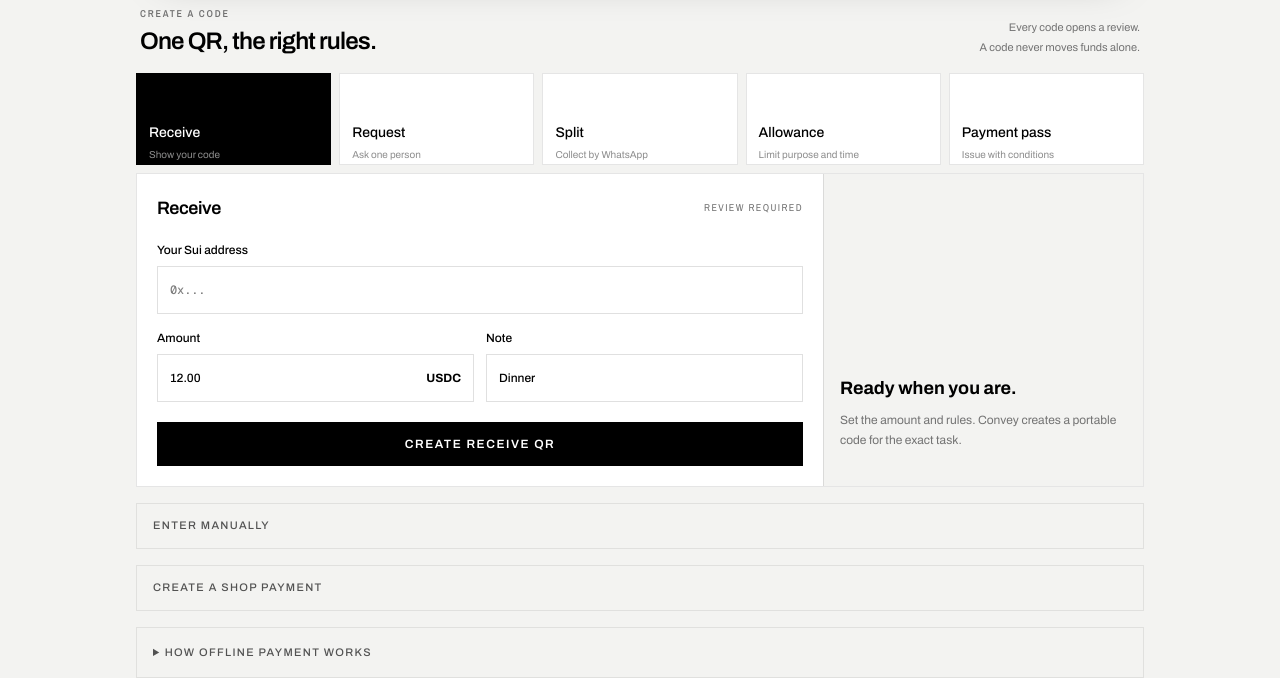
Scenario: Pay Offline — Scan QR camera entry › renders a Scan QR button as the primary import action
(page scrolled)
Expected: the field with placeholder "Paste payment code" is not shown
Expected: the field labelled "Open from file" is not shown
Opening the disclosure reveals the paste/file fallbacks.
Click the button with test id "manual-entry-disclosure" at {"x": 211, "y": 525}, box [137,504,1143,548]
(page scrolled)
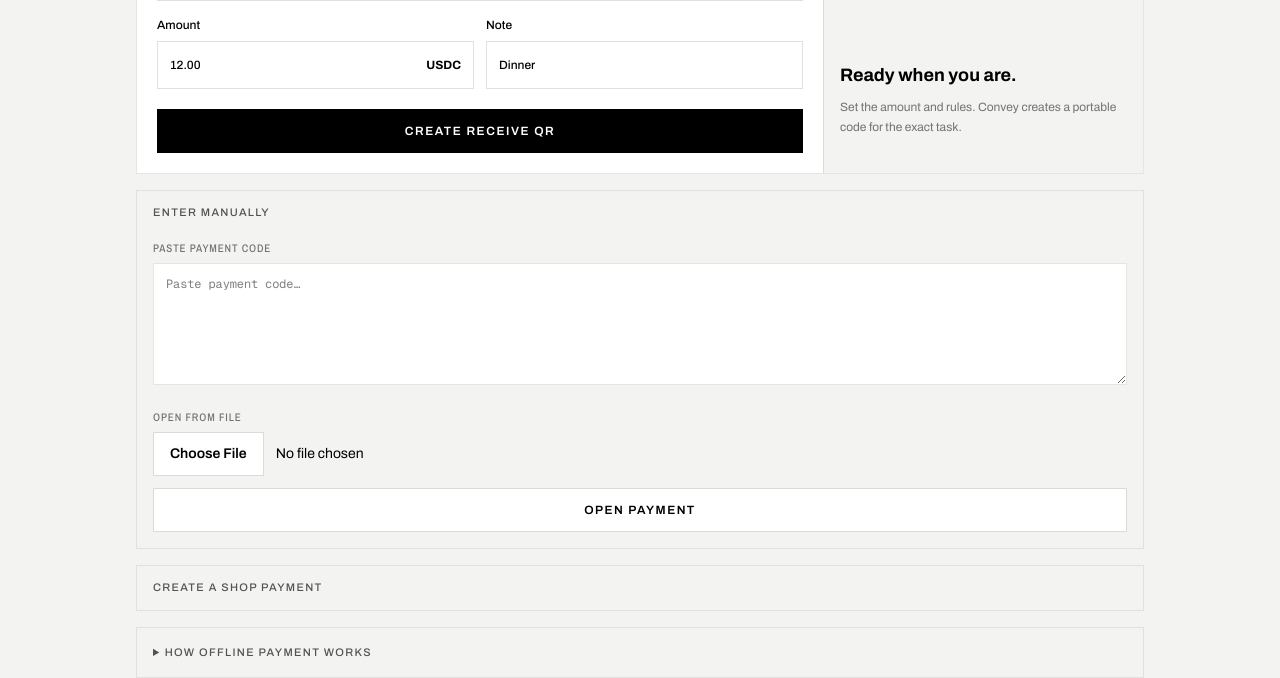
Expected: the text box with placeholder "Paste payment code…" is shown, [153,262,1127,384]
Expected: the file field labelled "Open from file" is shown, [153,432,1127,476]
